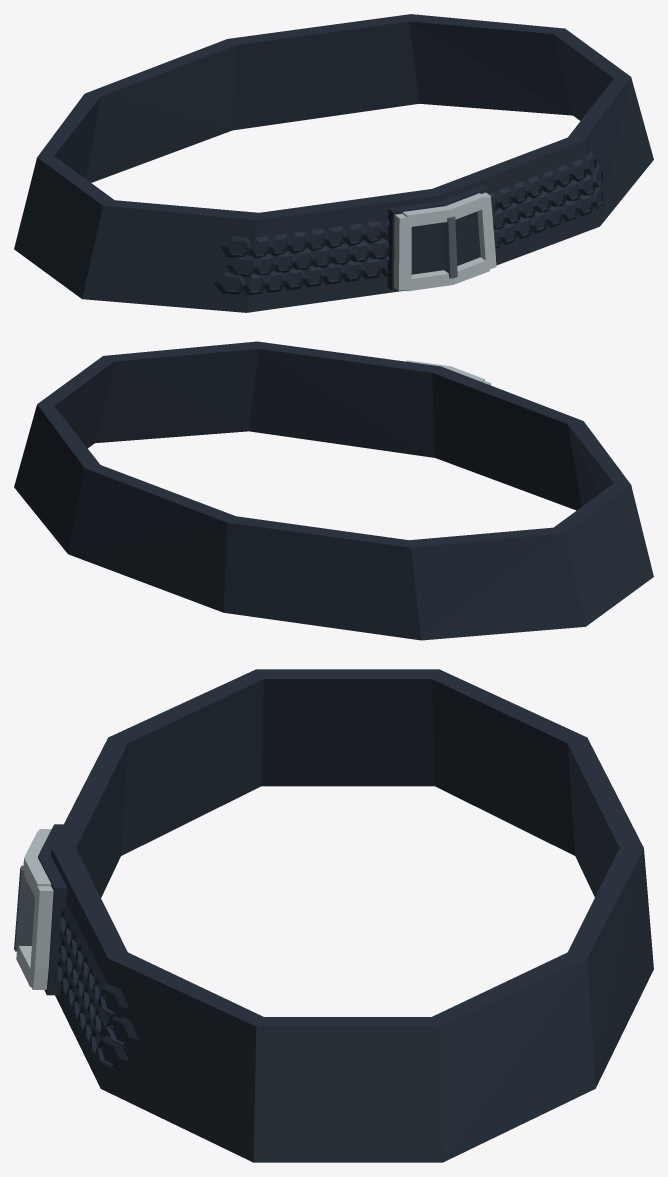
The model's file is ring_waist-female.glb.
3 views of the same model, one above another, from view 1: azimuth 30°, elevation 25°; view 2: azimuth 150°, elevation 25°; view 3: azimuth 270°, elevation 25° (orthographic). The views are drawn at different scales.
Parts seen in each view (by area): view 1: ring waist band, ring woven coverage on ring waist band, Buckle recessed backplate, Buckle cross rail 4.506, Buckle side rail -0.145, Buckle cross rail 4.294, Buckle side rail 0.145, Buckle pin; view 2: ring waist band; view 3: ring waist band, ring woven coverage on ring waist band, Buckle recessed backplate, Buckle side rail 0.145, Buckle pin, Buckle cross rail 4.506.
Boxes of the visible parts, <box> form: ring waist band: <box>14,14,653,312</box>; ring woven coverage on ring waist band: <box>213,150,603,295</box>; Buckle recessed backplate: <box>387,185,487,290</box>; Buckle cross rail 4.506: <box>402,193,485,227</box>; Buckle side rail -0.145: <box>394,213,411,290</box>; Buckle cross rail 4.294: <box>405,257,489,291</box>; Buckle side rail 0.145: <box>477,192,496,269</box>; Buckle pin: <box>442,216,457,278</box>; ring waist band: <box>14,341,653,640</box>; ring waist band: <box>51,669,653,1162</box>; ring woven coverage on ring waist band: <box>57,904,138,1071</box>; Buckle recessed backplate: <box>38,824,67,995</box>; Buckle side rail 0.145: <box>30,886,53,989</box>; Buckle pin: <box>14,865,34,951</box>; Buckle cross rail 4.506: <box>23,831,51,896</box>.
Bounding box in the file's own units: 1.98 × 0.2895 × 1.38.
